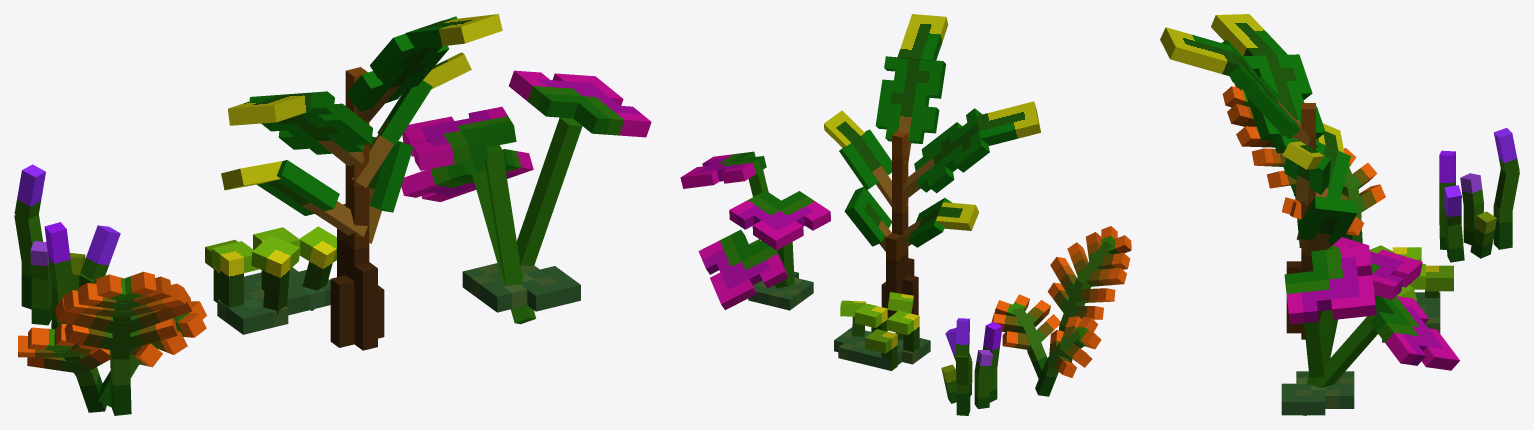
Rendered from item_2x1x1_altbushes02.gltf.
3 views of the same model, side by side, from view 1: azimuth 30°, elevation 25°; view 2: azimuth 150°, elevation 25°; view 3: azimuth 270°, elevation 25° (orthographic). The views are drawn at different scales.
Parts seen in each view (by area): view 1: F03-Local, F01-Local, bajiao-Local, bajiao-leaf-3-Local, F02-Local, bajiao-leaf-Local, guibei-Local, wufeng-Local, bajiao-leaf3-Local, bajiao-leaf2-Local, f01-Local, bajiao-leaf5-Local (+28 smaller); view 2: bajiao-leaf-Local, F02-Local, F01-Local, bajiao-leaf-3-Local, bajiao-Local, F03-Local, bajiao-leaf2-Local, bajiao-leaf-b$$(1)-Local, wufeng-Local, bajiao-leaf-b-Local, bajiao-leaf5-Local, guibei-Local (+25 smaller); view 3: F03-Local, F02-Local, bajiao-leaf-3-Local, F01-Local, guibei-Local, bajiao-leaf-Local, bajiao-leaf5-Local, bajiao-leaf-b-Local, bajiao-leaf-b$$(1)-Local, bajiao-Local, bajiao-leaf2-Local, bajiao-leaf3-Local (+19 smaller).
Boxes of the visible parts, bbox=[...] form: F03-Local: bbox=[509, 70, 651, 266]; F01-Local: bbox=[402, 106, 523, 285]; bajiao-Local: bbox=[330, 67, 384, 350]; bajiao-leaf-3-Local: bbox=[249, 91, 372, 165]; F02-Local: bbox=[401, 149, 536, 324]; bajiao-leaf-Local: bbox=[346, 16, 457, 122]; guibei-Local: bbox=[462, 263, 580, 312]; wufeng-Local: bbox=[217, 267, 330, 334]; bajiao-leaf3-Local: bbox=[257, 160, 369, 237]; bajiao-leaf2-Local: bbox=[351, 80, 432, 187]; f01-Local: bbox=[251, 235, 299, 315]; bajiao-leaf5-Local: bbox=[369, 136, 413, 243]; bajiao-leaf-Local: bbox=[875, 56, 946, 164]; F02-Local: bbox=[698, 229, 789, 309]; F01-Local: bbox=[729, 190, 830, 286]; bajiao-leaf-3-Local: bbox=[899, 108, 989, 198]; bajiao-Local: bbox=[881, 131, 918, 318]; F03-Local: bbox=[680, 151, 768, 196]; bajiao-leaf2-Local: bbox=[839, 129, 908, 206]; bajiao-leaf-b$$(1)-Local: bbox=[976, 101, 1040, 145]; wufeng-Local: bbox=[834, 327, 930, 370]; bajiao-leaf-b-Local: bbox=[897, 14, 948, 60]; bajiao-leaf5-Local: bbox=[844, 187, 891, 251]; guibei-Local: bbox=[748, 271, 813, 310]; F03-Local: bbox=[1284, 245, 1376, 377]; F02-Local: bbox=[1303, 296, 1459, 415]; bajiao-leaf-3-Local: bbox=[1243, 54, 1325, 153]; F01-Local: bbox=[1306, 237, 1422, 385]; guibei-Local: bbox=[1281, 371, 1354, 415]; bajiao-leaf-Local: bbox=[1222, 39, 1309, 145]; bajiao-leaf5-Local: bbox=[1298, 196, 1357, 256]; bajiao-leaf-b-Local: bbox=[1160, 27, 1240, 76]; bajiao-leaf-b$$(1)-Local: bbox=[1211, 14, 1287, 56]; bajiao-Local: bbox=[1286, 103, 1330, 339]; bajiao-leaf2-Local: bbox=[1284, 137, 1330, 205]; bajiao-leaf3-Local: bbox=[1293, 142, 1350, 241].
Size of the model in its own units: 39.36 by 25.71 by 24.75.
Materials: 63 (63 with a texture image).
